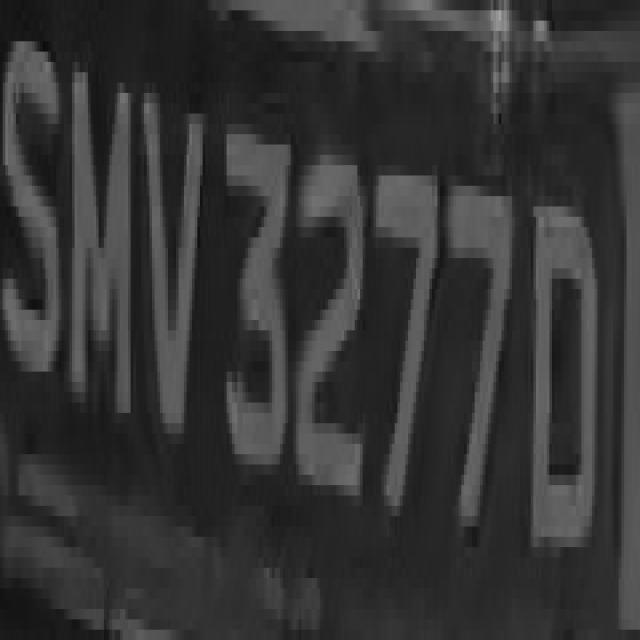2: (288, 104, 368, 526)
3: (222, 82, 294, 506)
7: (446, 134, 518, 578), (360, 114, 437, 526)
D: (525, 124, 603, 578)
M: (61, 21, 139, 454)
S: (3, 31, 69, 403)
V: (142, 62, 206, 495)
